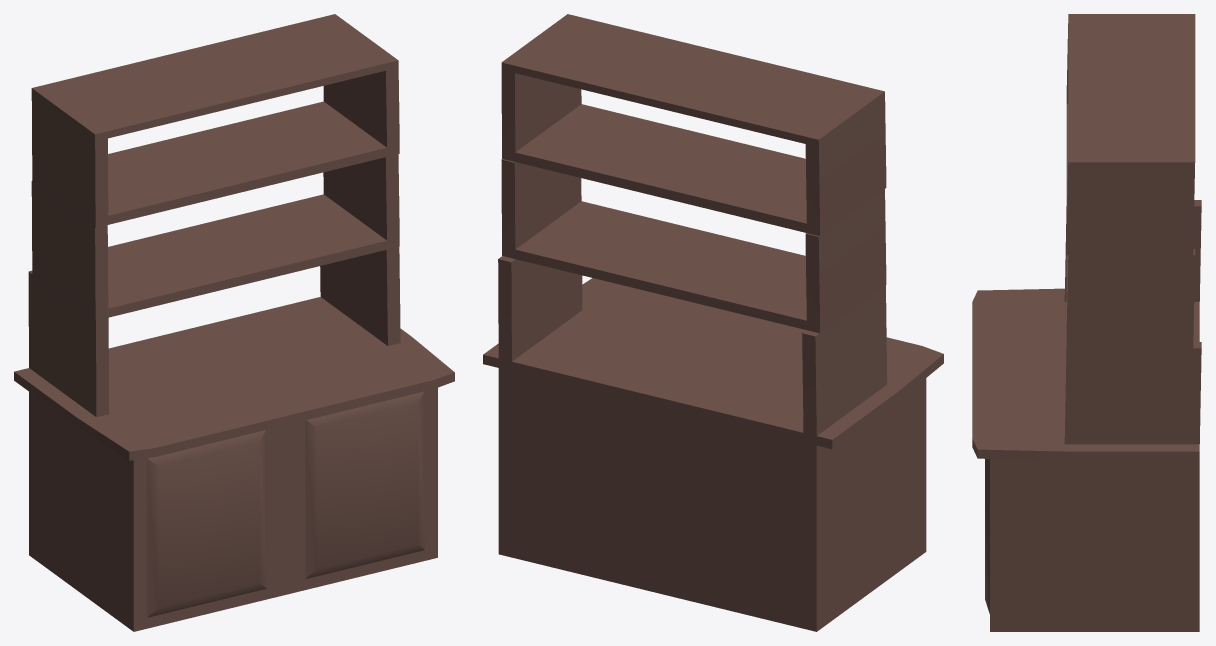
The model's file is hutch.fbx.
3 renders of one model, left to right at view 1: azimuth 30°, elevation 25°; view 2: azimuth 150°, elevation 25°; view 3: azimuth 270°, elevation 25°, orthographic. The views are drawn at different scales.
Visible parts, largest first — view 1: Hutch; view 2: Hutch; view 3: Hutch.
Part boxes in pixels (x1,y1,x2,y2): Hutch: (14, 14, 454, 631); Hutch: (483, 14, 943, 631); Hutch: (972, 14, 1201, 631).
Size of the model in its own units: 175 by 234 by 104.
